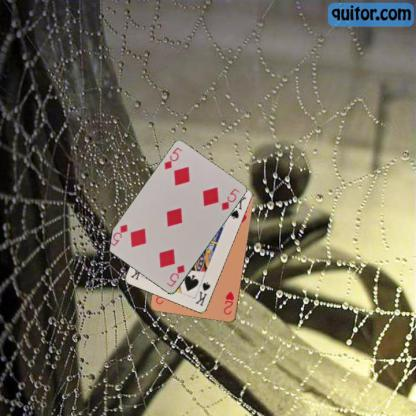2h: (221, 289, 236, 316)
5d: (164, 262, 186, 288), (162, 145, 183, 171)
Ks: (192, 280, 212, 307)
